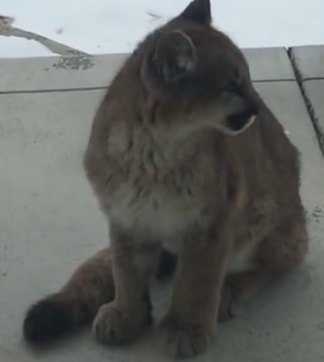Mountain Lion: (65, 5, 313, 356)
